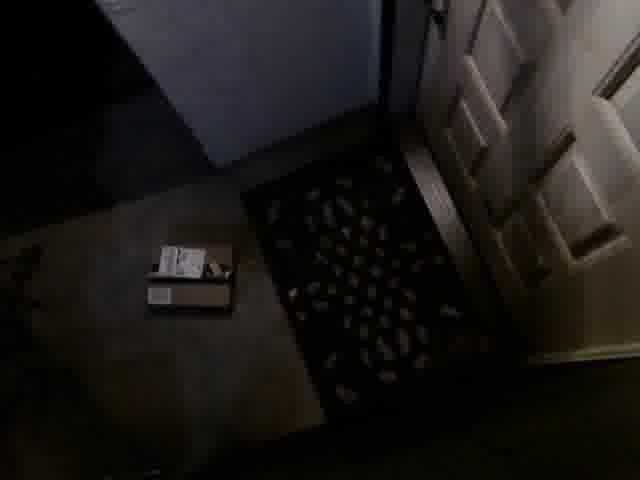box: (144, 240, 234, 314)
